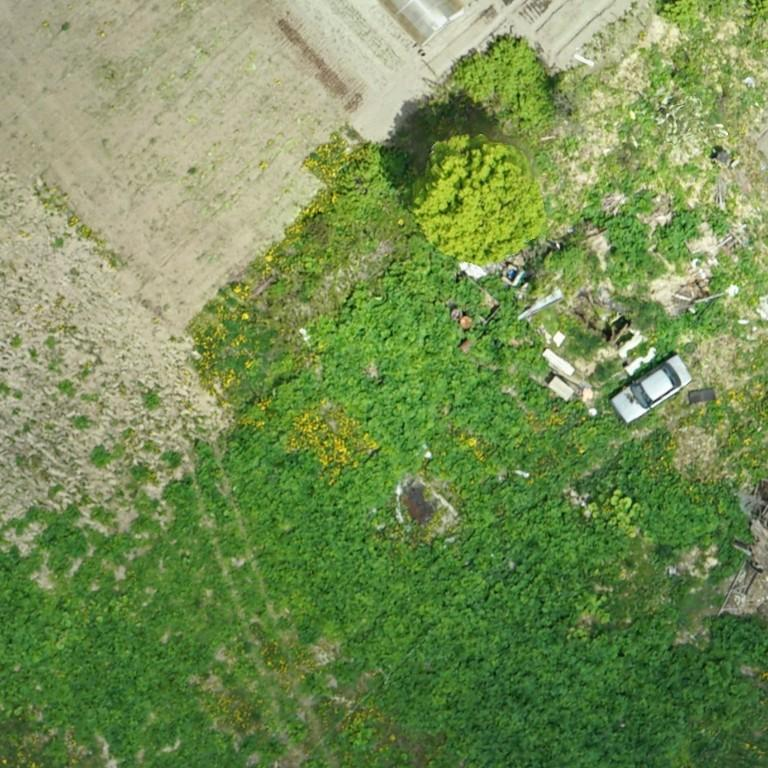hogweed: (225, 374, 767, 767), (0, 546, 254, 767), (310, 252, 551, 479), (607, 442, 748, 581), (476, 278, 527, 358), (30, 503, 85, 570), (197, 440, 235, 524), (606, 202, 651, 271), (654, 212, 698, 258), (162, 481, 197, 534), (307, 662, 361, 692)
